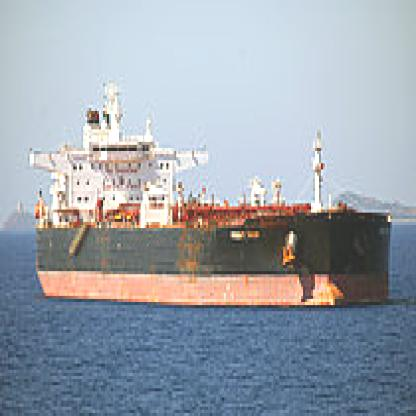Tanker: (32, 105, 398, 314)
